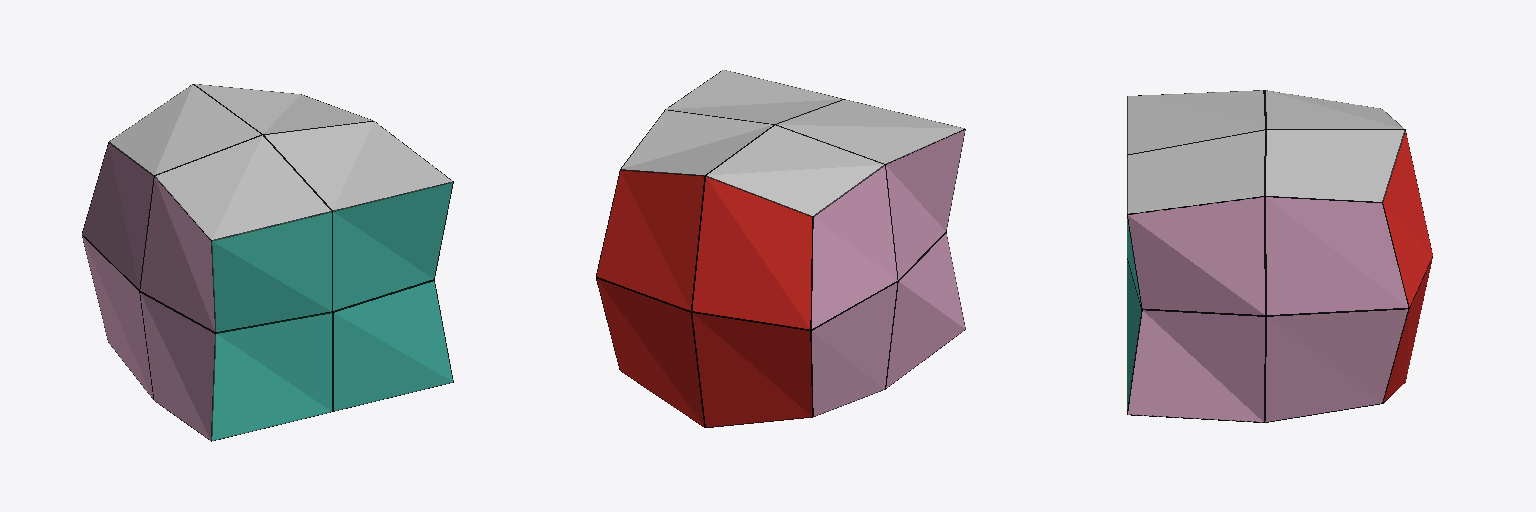
3 renders of one model, left to right at view 1: azimuth 30°, elevation 25°; view 2: azimuth 150°, elevation 25°; view 3: azimuth 270°, elevation 25°, orthographic.
Parts seen in each view (by area): view 1: Cube; view 2: Cube; view 3: Cube.
Boxes of the visible parts, x1,y1,x2,y2 form: Cube: [82, 84, 453, 441]; Cube: [596, 70, 965, 427]; Cube: [1127, 90, 1432, 422].
Size of the model in its own units: 2.04 by 2 by 2.2.
1 materials, 1 textured.